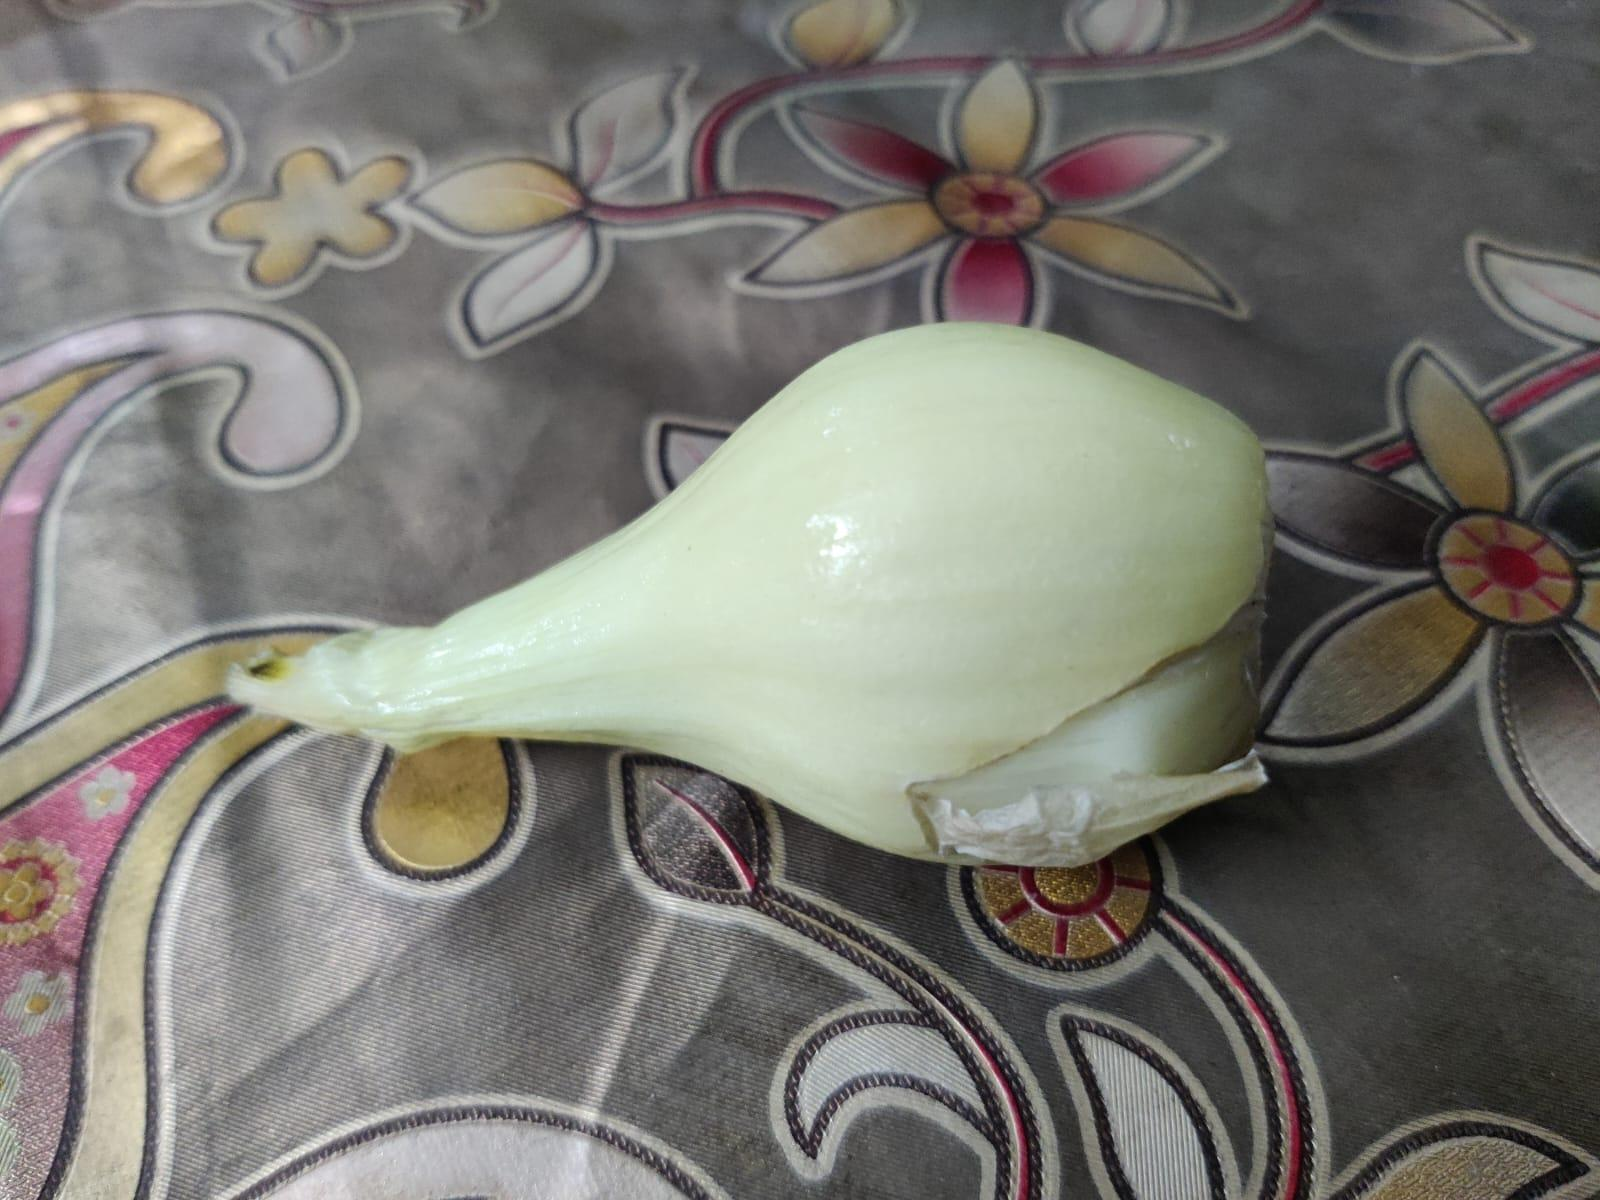non-mango: (233, 318, 1294, 872)
